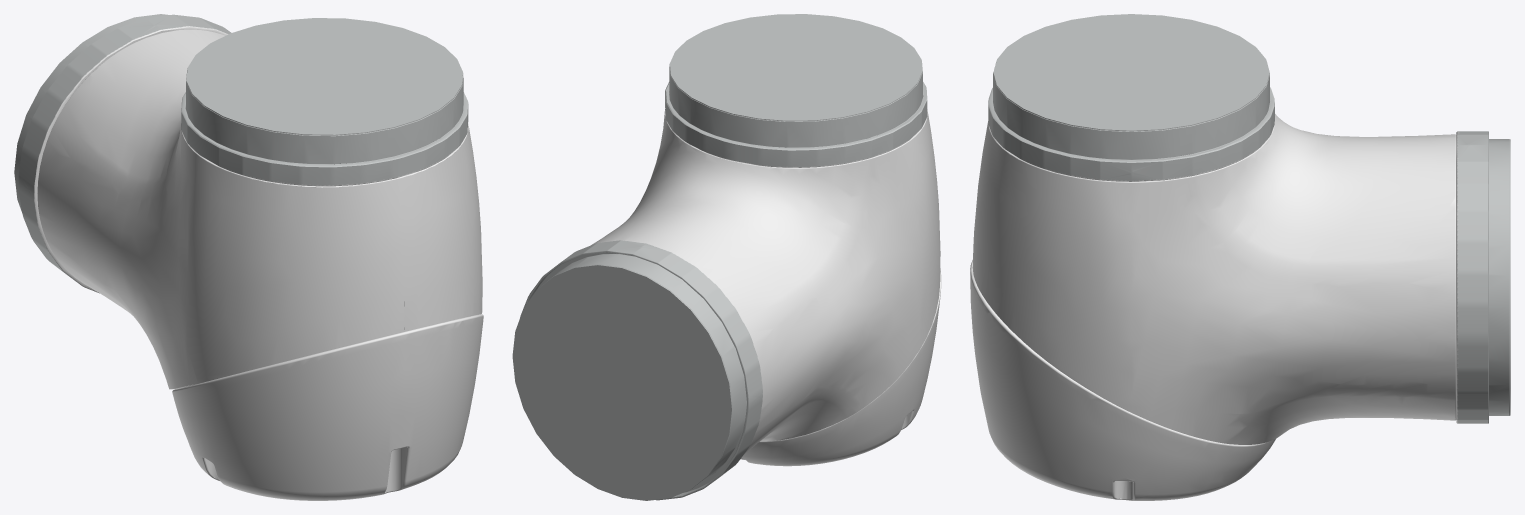
File: Link1_body.glb
3 views of the same model, side by side, from view 1: azimuth 30°, elevation 25°; view 2: azimuth 150°, elevation 25°; view 3: azimuth 270°, elevation 25° (orthographic). The views are drawn at different scales.
Parts seen in each view (by area): view 1: Link1_body.STL; view 2: Link1_body.STL; view 3: Link1_body.STL.
Boxes of the visible parts, x1,y1,x2,y2 form: Link1_body.STL: (14,14,483,500); Link1_body.STL: (512,14,941,500); Link1_body.STL: (970,14,1510,500).
Bounding box in the file's own units: 0.1661 × 0.2236 × 0.283.
Materials: 1 (1 with a texture image).
